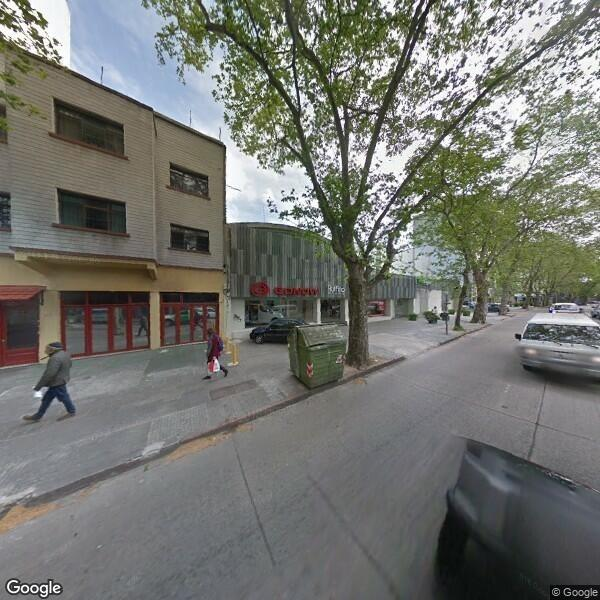Trash: (284, 323, 348, 390)
